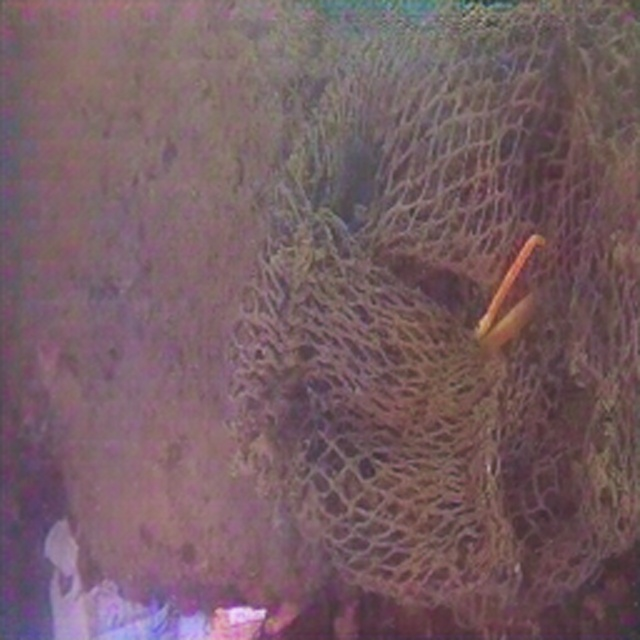mine: (230, 0, 639, 608)
